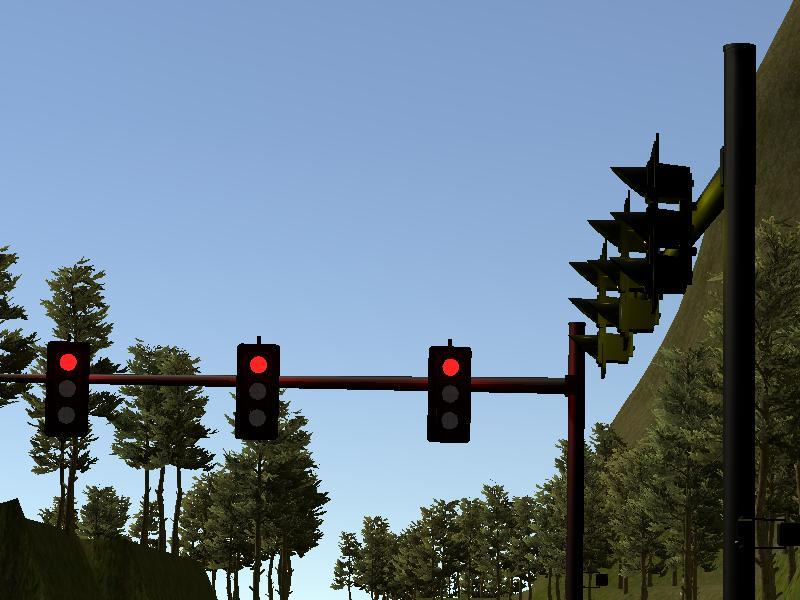Red: (428, 346, 471, 442), (237, 342, 278, 440), (47, 338, 86, 434)
